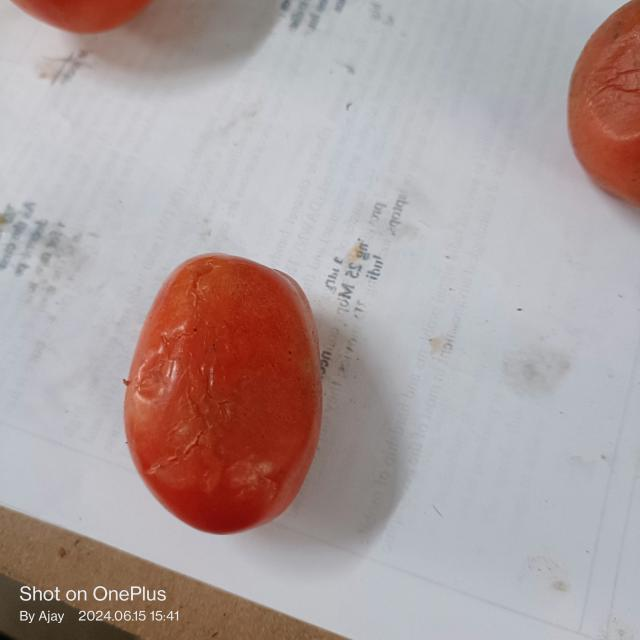Botrytis: (144, 428, 206, 480), (188, 258, 216, 306)
